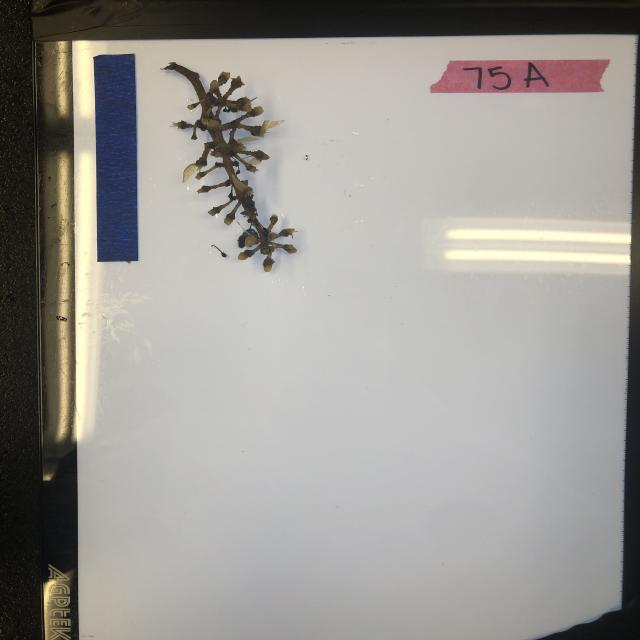index: (431, 58, 611, 94)
measure_label: (92, 52, 140, 262)
rachis_cluster: (162, 59, 300, 275)
